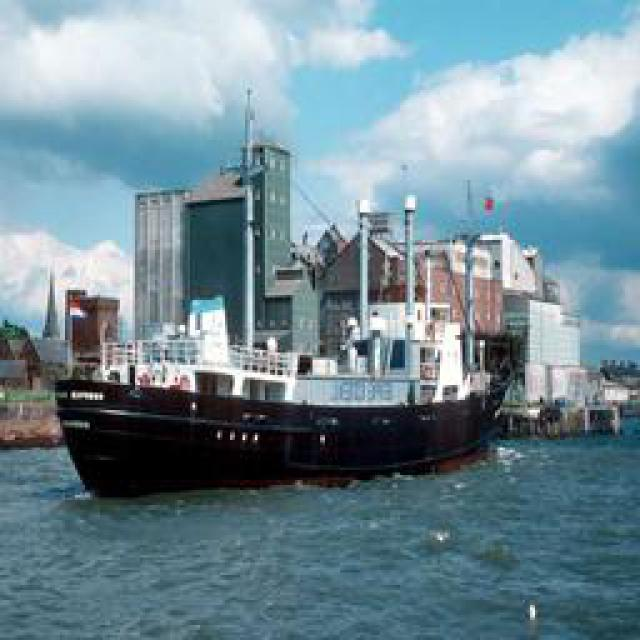Ship: (51, 123, 536, 488)
